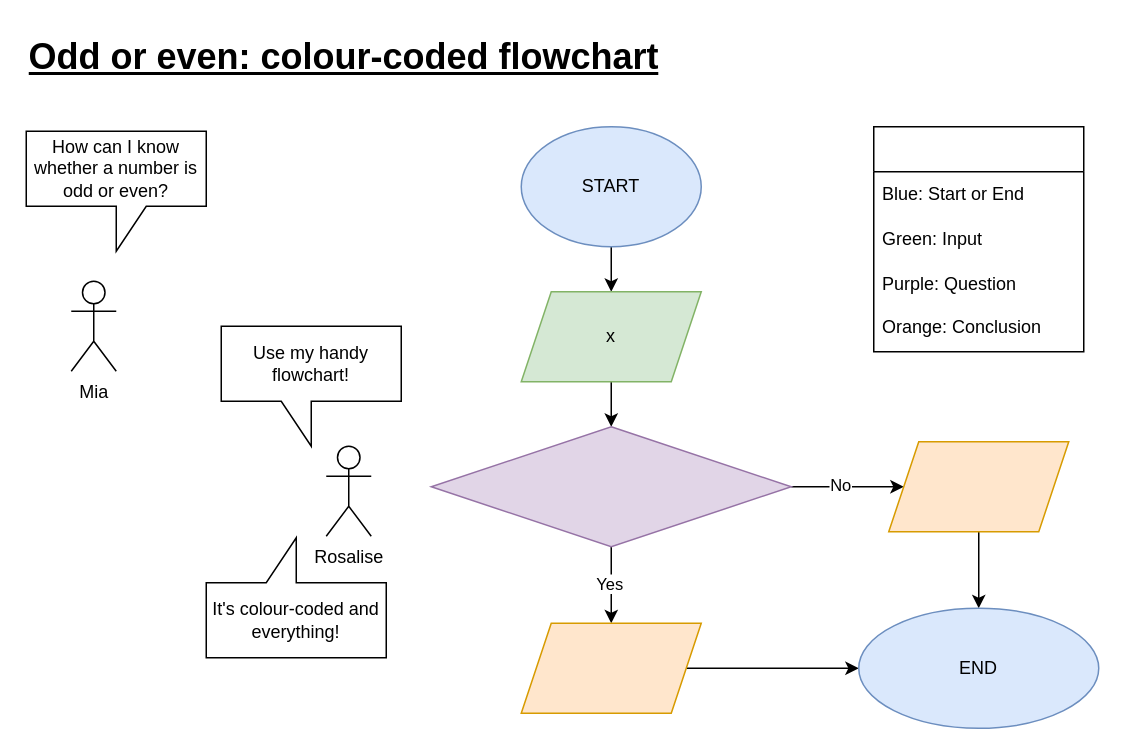
This 1125x755 diagram has some shape labels left out. The box of each missing label's shape, as (x1, y1, x2, y2) in pixels:
can you divide x by 2?: (430, 425, 791, 547)
Key: (872, 125, 1084, 352)
x is even: (520, 622, 701, 713)
x is odd: (887, 440, 1069, 532)
